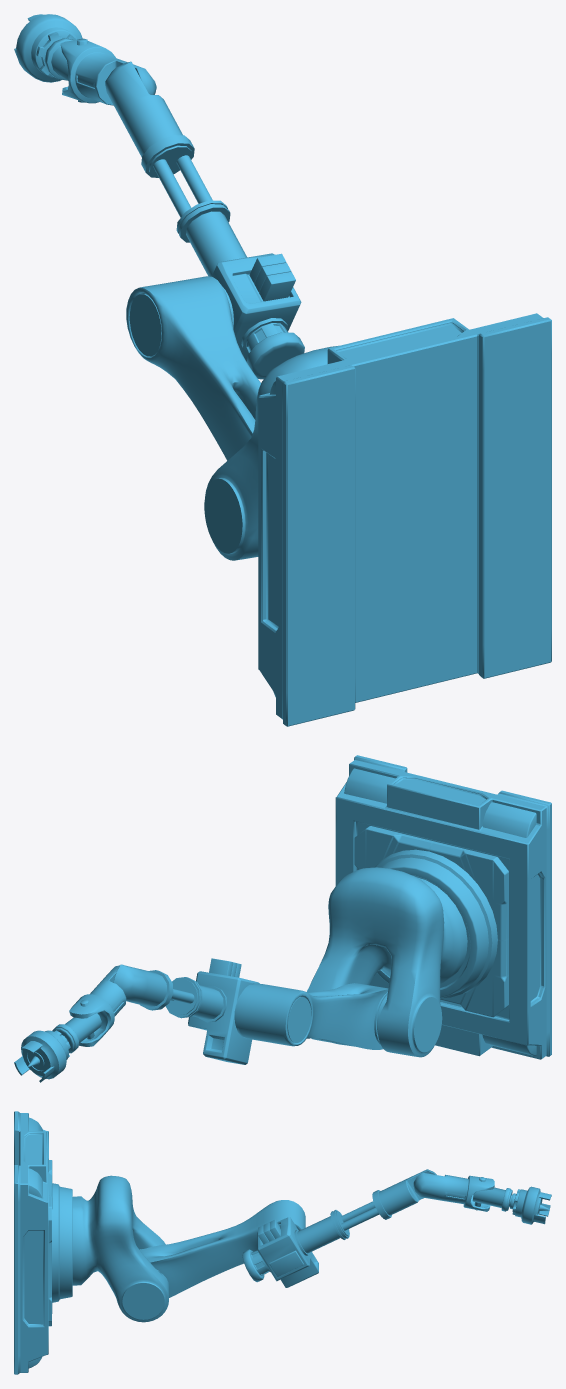
The model's file is arm_pose_snapshot2.fbx.
3 views of the same model, one above another, from view 1: azimuth 30°, elevation 25°; view 2: azimuth 150°, elevation 25°; view 3: azimuth 270°, elevation 25° (orthographic). The views are drawn at different scales.
Parts seen in each view (by area): view 1: arm_base_tank, arm_01, arm_02, arm_turret, arm_joint_01, arm_joint_02, arm_end_02, arm_extend, arm_end_01; view 2: arm_base_tank, arm_turret, arm_01, arm_02, arm_end_02, arm_joint_02, arm_joint_01, arm_end_01; view 3: arm_base_tank, arm_turret, arm_01, arm_02, arm_joint_02, arm_joint_01, arm_end_02, arm_end_01, arm_extend.
Boxes of the visible parts, x1,y1,x2,y2 form: arm_base_tank: (258,313,551,726); arm_01: (126,276,261,460); arm_02: (176,200,304,379); arm_turret: (204,345,338,560); arm_joint_01: (105,61,194,177); arm_joint_02: (60,40,156,105); arm_end_02: (14,14,82,82); arm_extend: (153,155,212,217); arm_end_01: (36,32,87,102); arm_base_tank: (335,755,551,1059); arm_turret: (307,867,467,1057); arm_01: (235,983,388,1049); arm_02: (165,958,259,1064); arm_end_02: (14,1030,68,1082); arm_joint_02: (69,965,126,1046); arm_joint_01: (113,964,173,1010); arm_end_01: (52,999,101,1057); arm_base_tank: (14,1111,72,1374); arm_turret: (72,1175,169,1322); arm_01: (139,1200,305,1297); arm_02: (242,1210,349,1287); arm_joint_02: (413,1173,494,1211); arm_joint_01: (372,1169,436,1219); arm_end_02: (515,1186,551,1224); arm_end_01: (472,1177,520,1214); arm_extend: (341,1201,379,1230).
Size of the model in its own units: 203 by 250 by 636.
